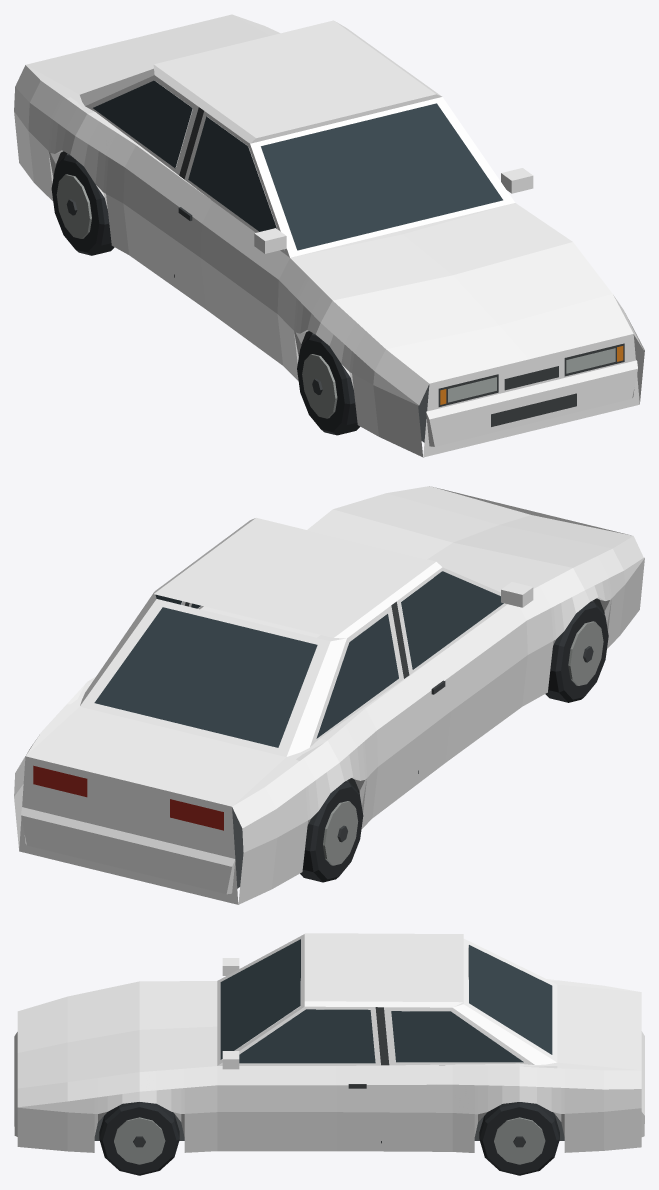
The model's file is kanaya_shinonome_gts.glb.
3 renders of one model, top to bottom at view 1: azimuth 30°, elevation 25°; view 2: azimuth 150°, elevation 25°; view 3: azimuth 270°, elevation 25°, orthographic. The views are drawn at different scales.
Parts seen in each view (by area): view 1: kanaya_shinonome_gts; view 2: kanaya_shinonome_gts; view 3: kanaya_shinonome_gts.
Boxes of the visible parts, <box> form: kanaya_shinonome_gts: <box>14,14,644,457</box>; kanaya_shinonome_gts: <box>14,486,644,904</box>; kanaya_shinonome_gts: <box>14,933,644,1175</box>.
Size of the model in its own units: 1.78 by 1.28 by 4.58.
Materials: 8 (1 with a texture image).
